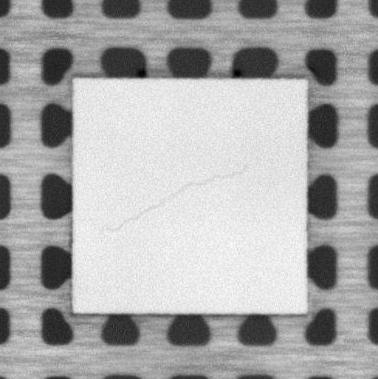DIE_CRACK: (106, 168, 239, 234)
